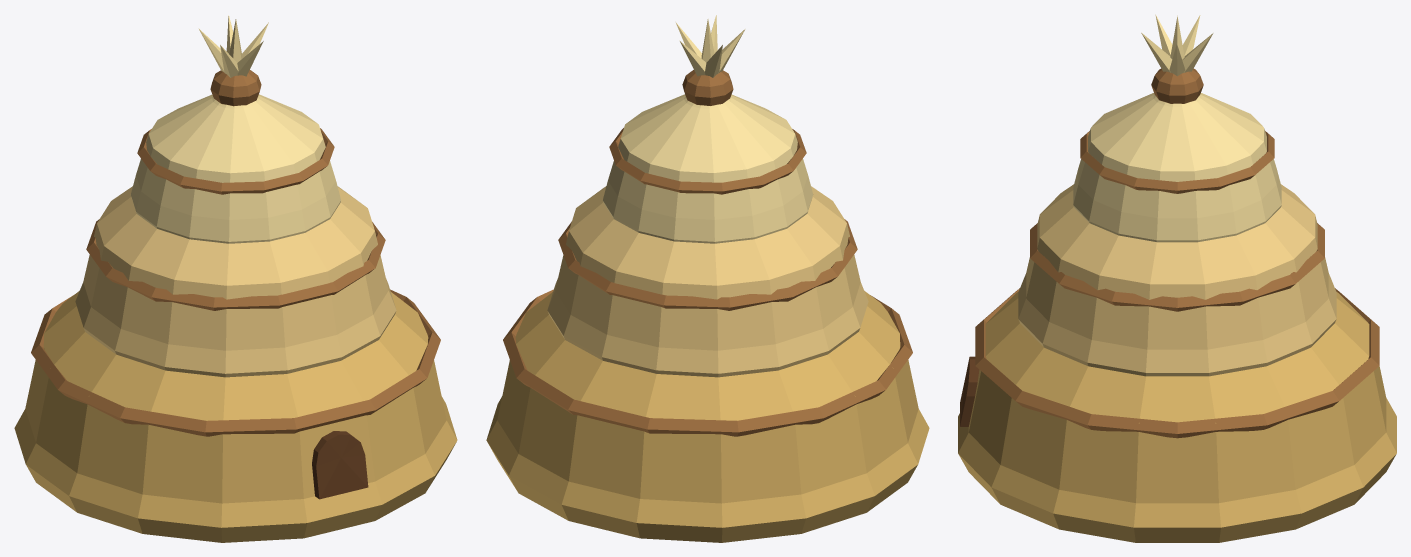
File: mini-maloca-techo.glb
3 views of the same model, side by side, from view 1: azimuth 30°, elevation 25°; view 2: azimuth 150°, elevation 25°; view 3: azimuth 270°, elevation 25° (orthographic).
Visible parts, largest first — view 1: mini-maloca-techo; view 2: mini-maloca-techo; view 3: mini-maloca-techo.
Boxes of the visible parts, x1,y1,x2,y2 form: mini-maloca-techo: (14,15,457,542); mini-maloca-techo: (486,15,929,542); mini-maloca-techo: (958,14,1396,542).
Bounding box in the file's own units: 0.4002 × 0.452 × 0.4002.
